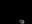person: (18, 15, 24, 23)
